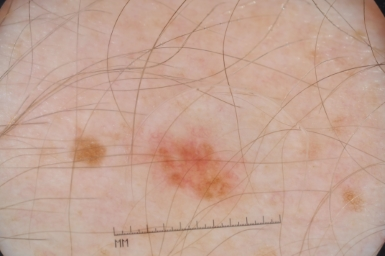melanoma: (157, 141, 235, 201), (74, 133, 106, 169)
